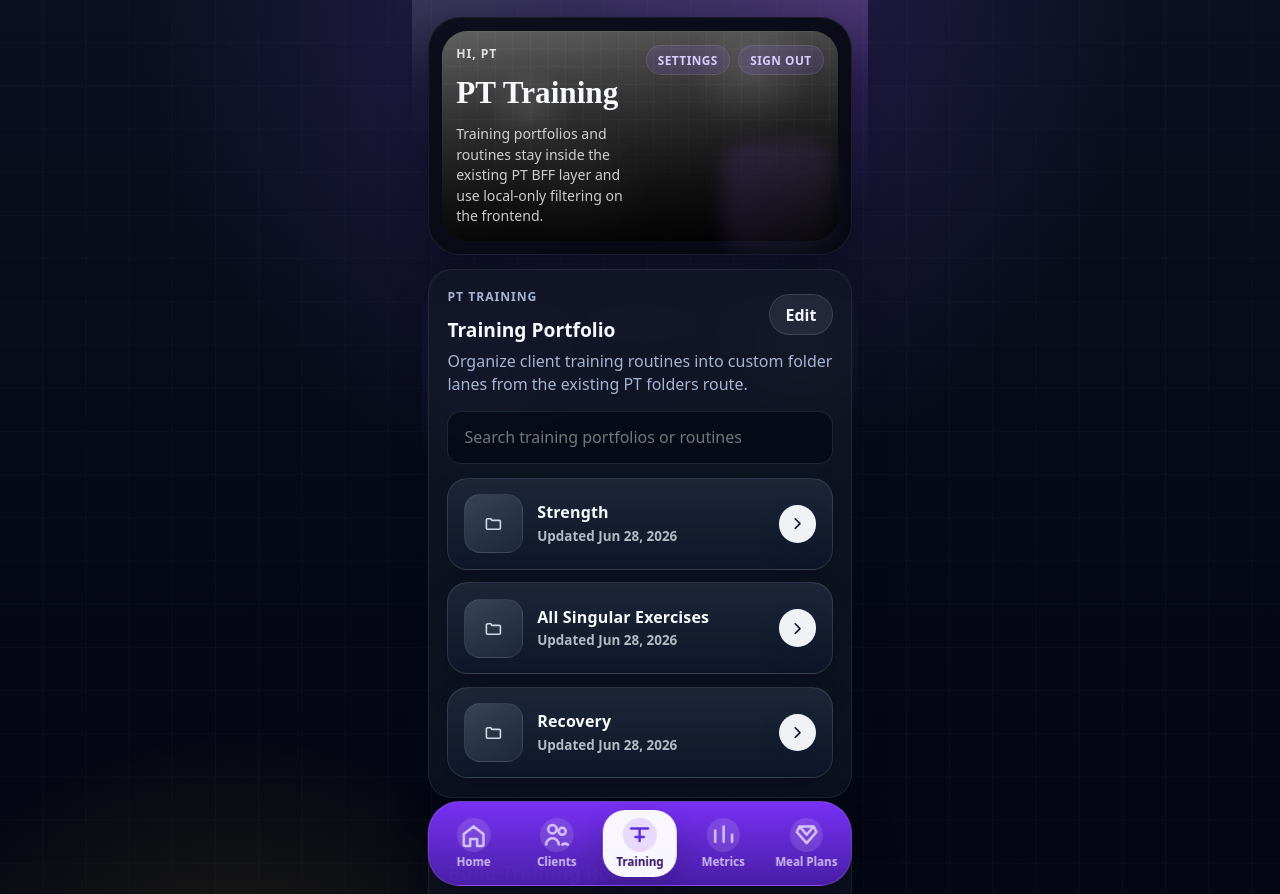
PTTrainingPage mobile experience › creates local portfolio folders from the display modal and does not label them as drafts
Click the button named "Edit training portfolio display": [801, 314] box [769,294,833,335]
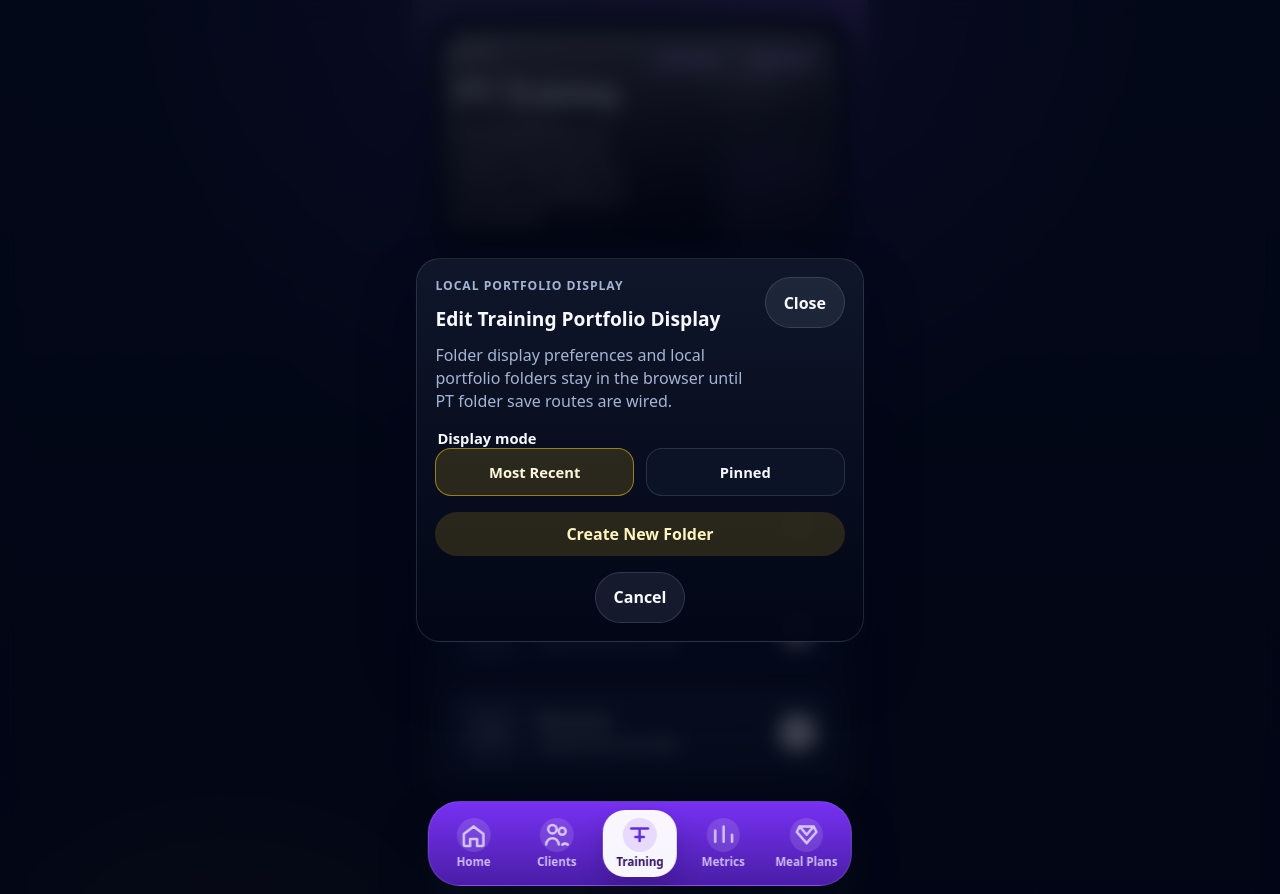
Check: the dialog "Edit Training Portfolio Display" is shown, box [416,258,864,642]
Click the button "Create New Folder": [640, 534] box [435,512,845,556]
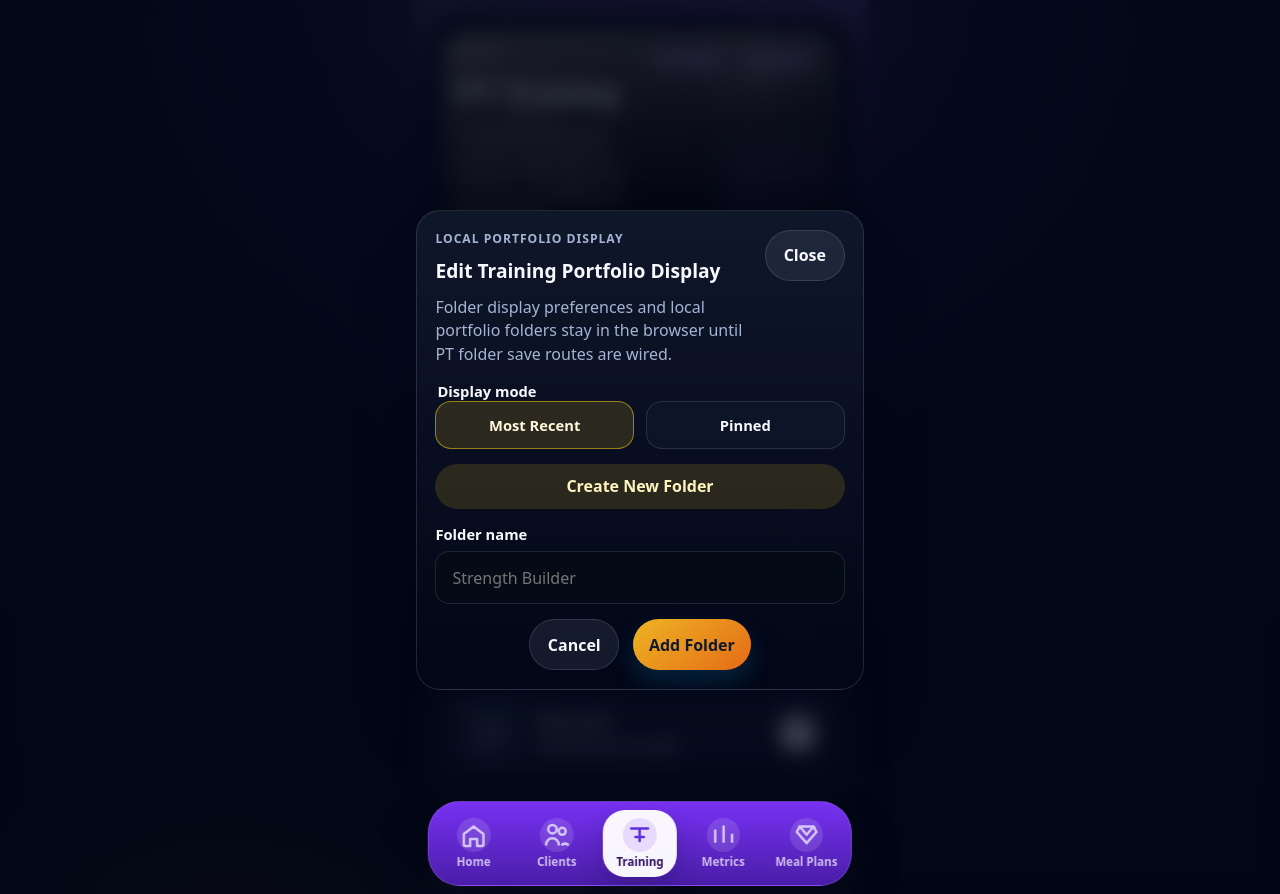
In the field labelled "Folder name": [640, 578] box [435,551,845,604], type "Mobility Builder"
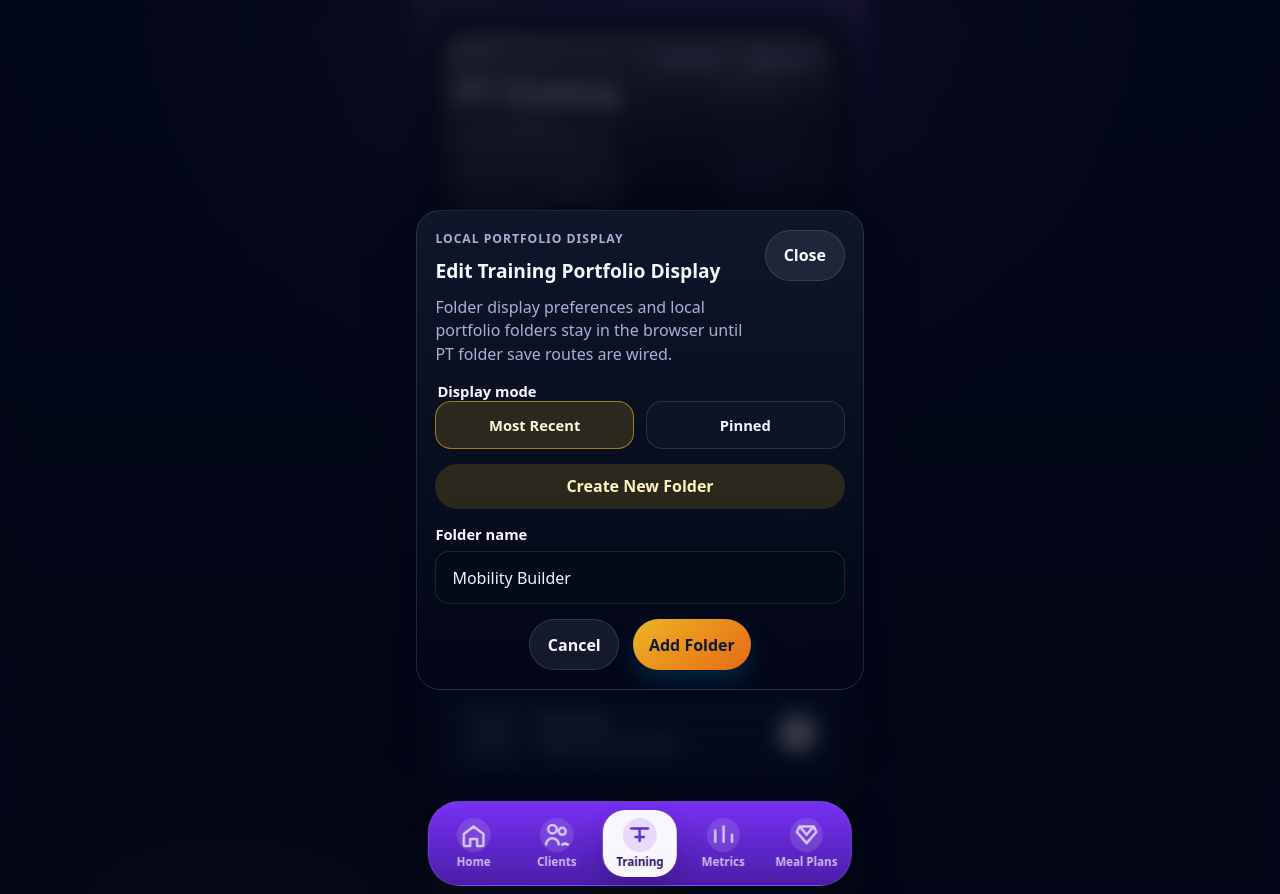
Click the button "Add Folder": [692, 645] box [633,619,751,670]
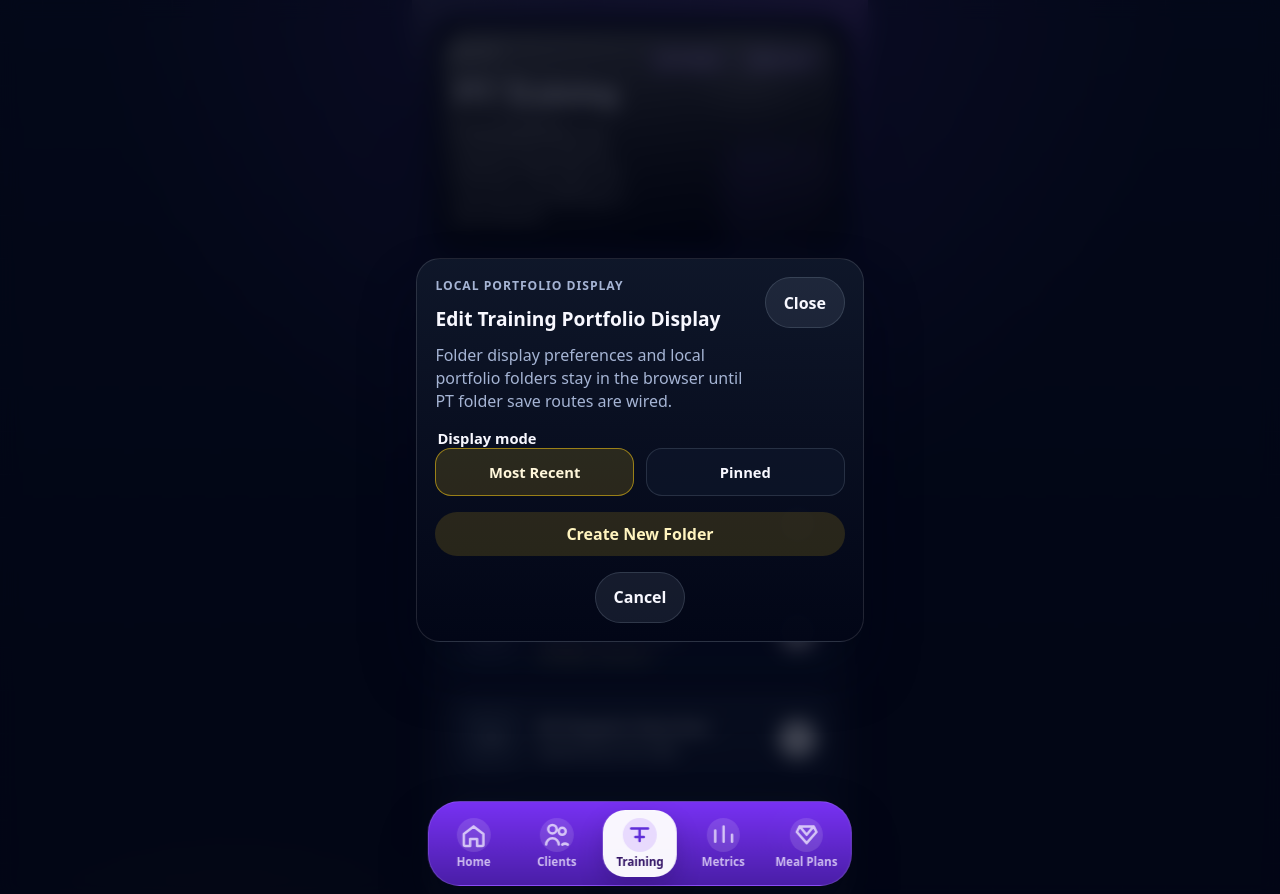
Check: the text "Local draft" is not shown
Check: the button named "Open training portfolio Mobility Builder" is shown, box [447,582,833,680]
